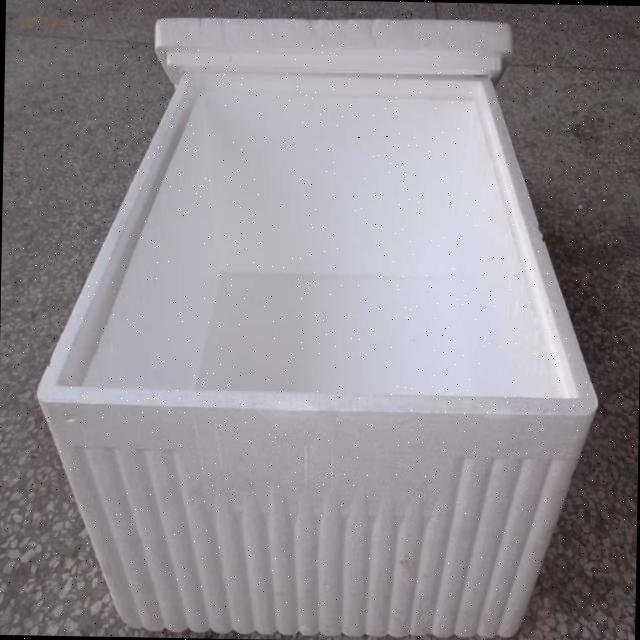styrofoam: (31, 9, 604, 640)
